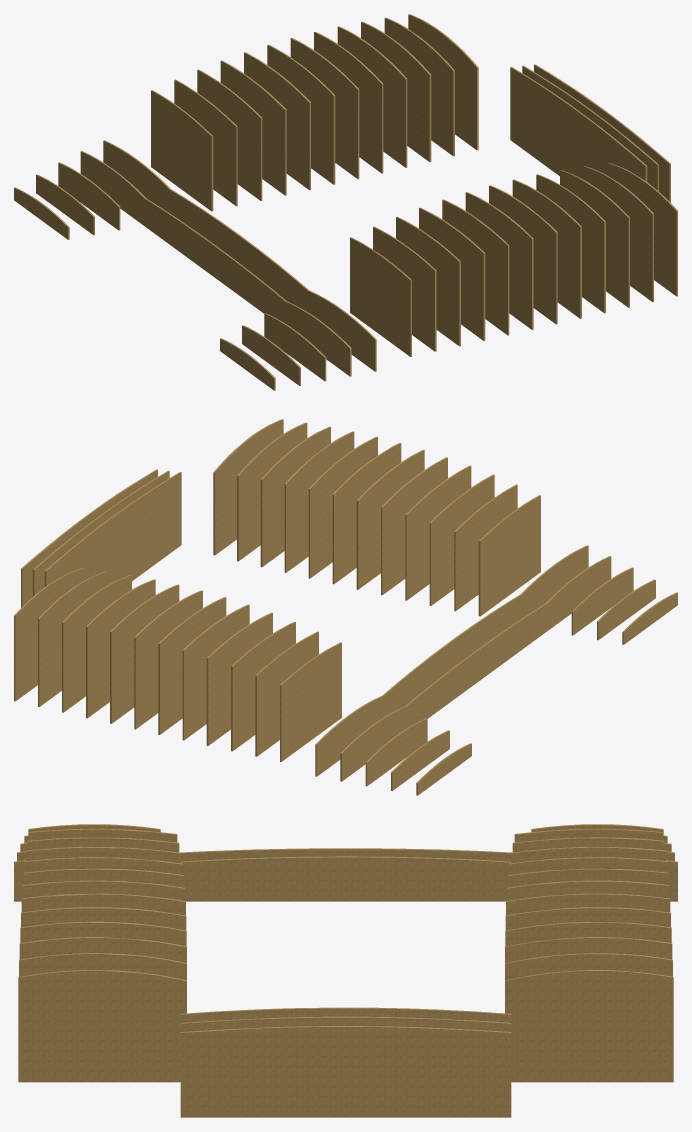
File: DECK JIG__TRANSV FRAMES.glb
The picture shows the model from 3 angles, top to bottom: view 1: azimuth 30°, elevation 25°; view 2: azimuth 150°, elevation 25°; view 3: azimuth 270°, elevation 25°; orthographic projection. The views are drawn at different scales.
Bounding box in the file's own units: 5.89 × 1.18 × 6.04.
1 material, 1 textured.
